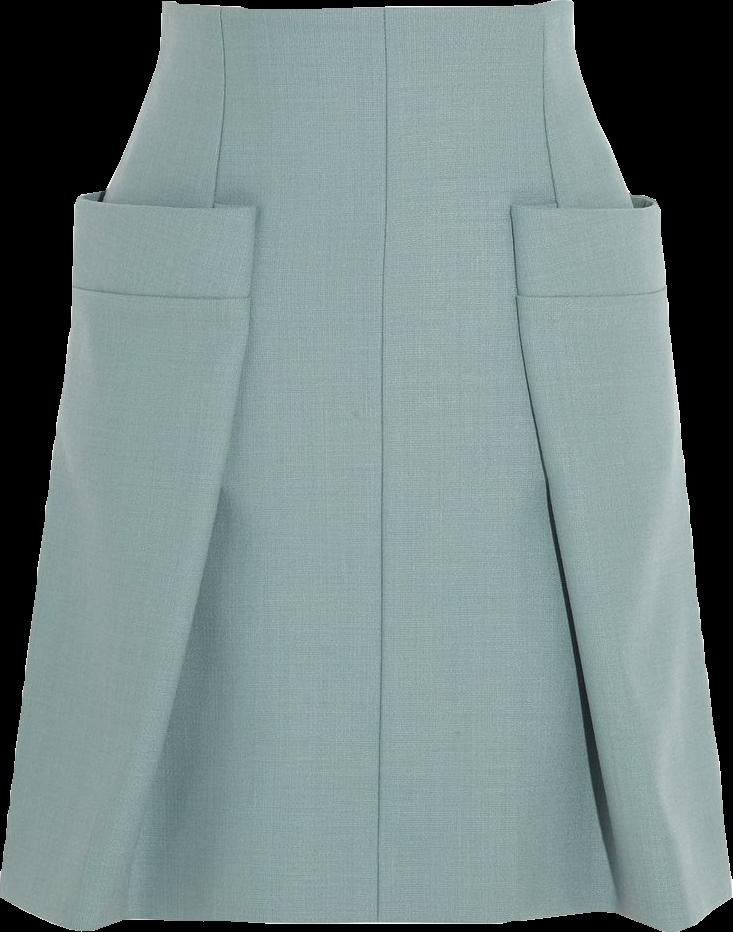Hemline: (0, 888, 732, 931)
Waistline: (157, 0, 575, 15)
